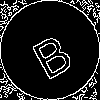B: (25, 25, 76, 81)
